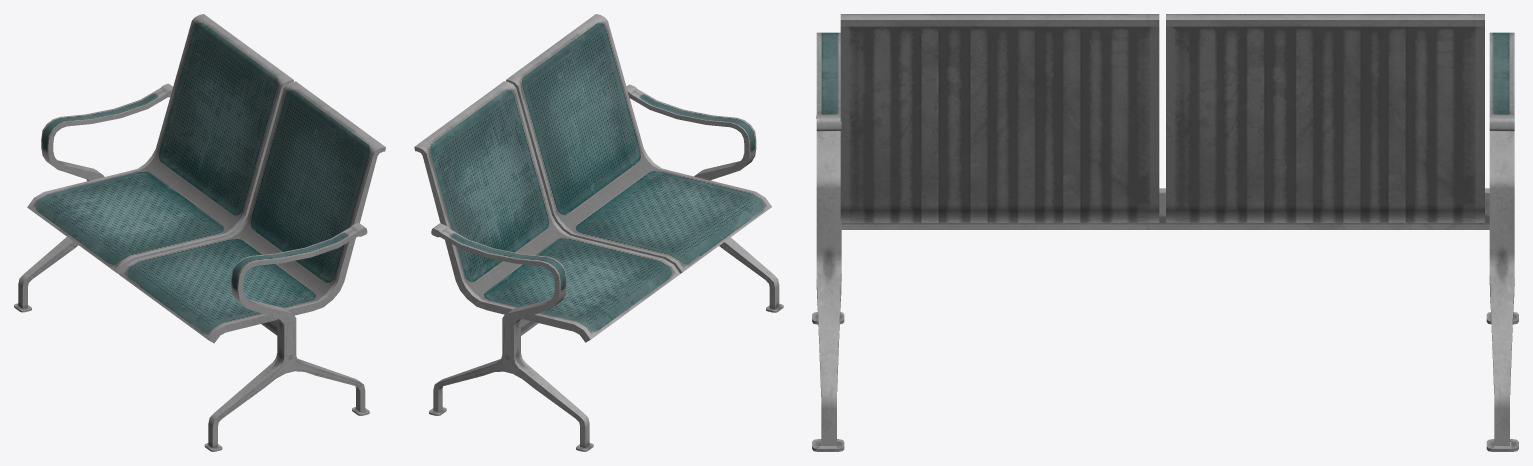
The model's file is HH_Public_Seating_02.fbx.
3 views of the same model, side by side, from view 1: azimuth 30°, elevation 25°; view 2: azimuth 150°, elevation 25°; view 3: azimuth 270°, elevation 25° (orthographic). The views are drawn at different scales.
Visible parts, largest first — view 1: HH_Public_Seating_02_LOD0; view 2: HH_Public_Seating_02_LOD0; view 3: HH_Public_Seating_02_LOD0.
Part boxes in pixels (x1,y1,x2,y2): HH_Public_Seating_02_LOD0: (14, 14, 385, 451); HH_Public_Seating_02_LOD0: (414, 14, 783, 451); HH_Public_Seating_02_LOD0: (812, 14, 1518, 451).
Size of what is drawn, in the model's own units: 72.21 by 96.97 by 137.
